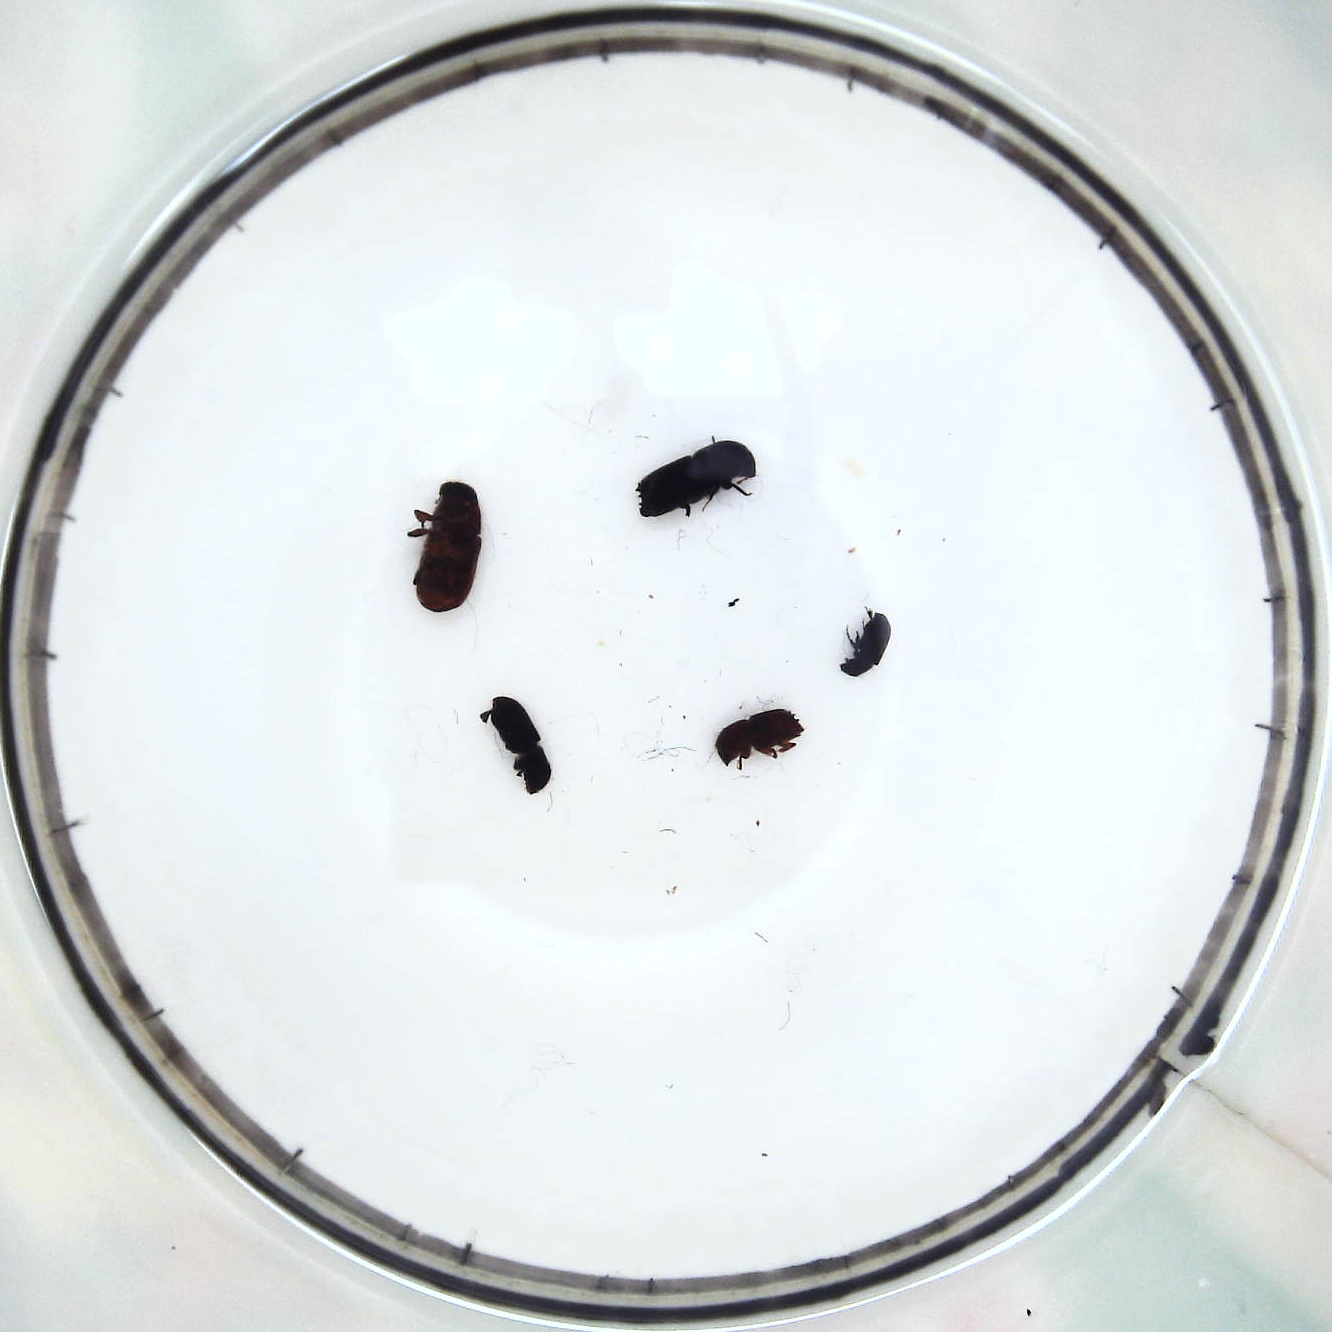Boerner: (636, 438, 756, 523)
Leconte: (412, 472, 485, 611)
Linnaeus: (717, 706, 806, 766)
armandi: (487, 694, 553, 794)
coleoptera: (842, 609, 893, 681)
